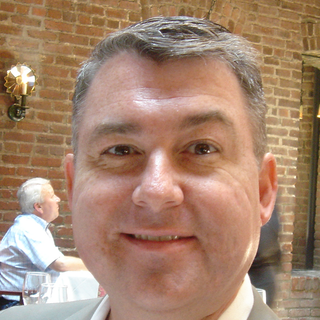eye: (95, 139, 143, 164), (180, 138, 226, 164)
